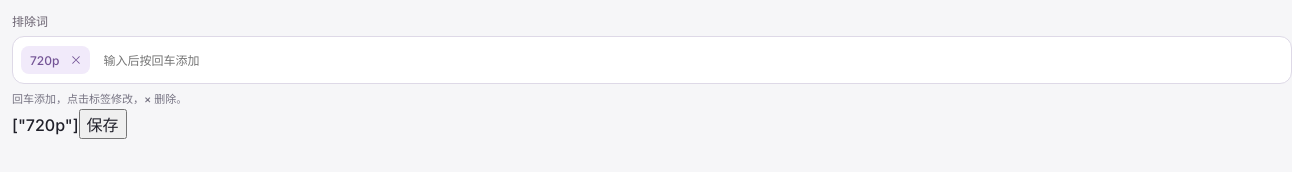
Scenario: KeywordTags › adds with Enter, edits on click, cancels with Escape and removes individually
The image size is (1292, 172).
In the field labelled "排除词": (690, 60) 96,45 -> 1283,75, type " 繁日 "
Then press Enter
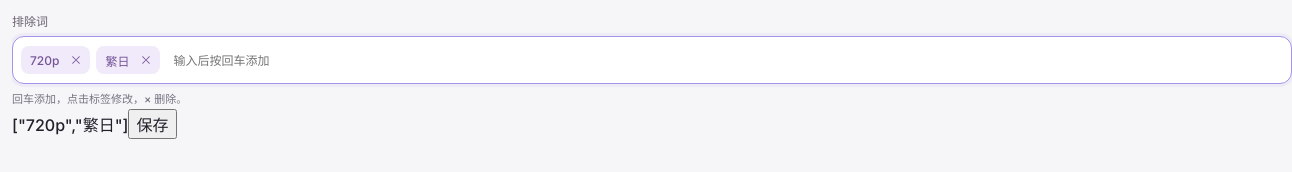
Now the text "[\"720p\",\"繁日\"]" is shown, box 12,115 -> 128,135
Click the button with aria-label "编辑排除词 繁日": (114, 60) 96,46 -> 132,74
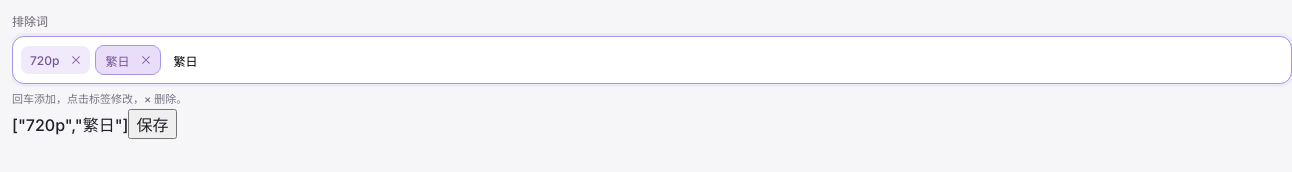
Replace the text in the field labelled "排除词" with "简日": (725, 60) 166,45 -> 1283,75
Then press Enter
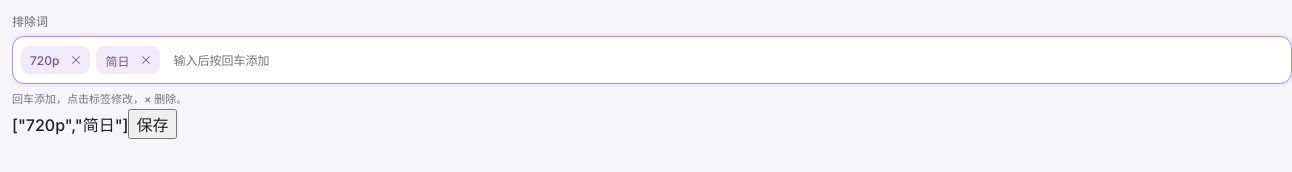
Now the text "[\"720p\",\"简日\"]" is shown, box 12,115 -> 128,135
Click the button with aria-label "编辑排除词 简日": (114, 60) 96,46 -> 132,74
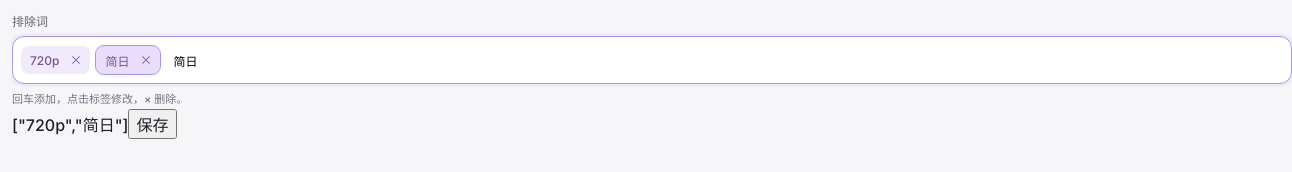
Replace the text in the field labelled "排除词" with "取消修改": (725, 60) 166,45 -> 1283,75
Then press Escape
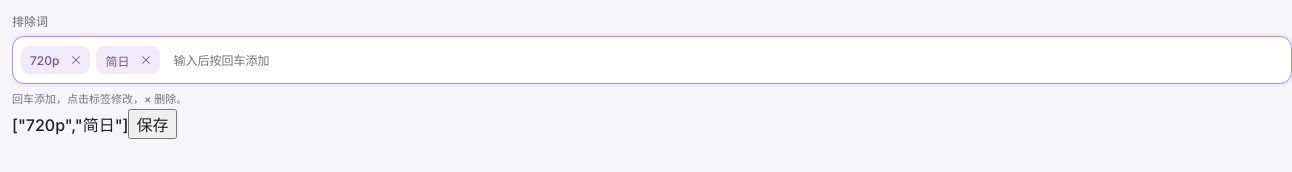
Now the text "[\"720p\",\"简日\"]" is shown, box 12,115 -> 128,135
Click the button named "删除排除词 简日": (146, 60) 132,46 -> 160,74
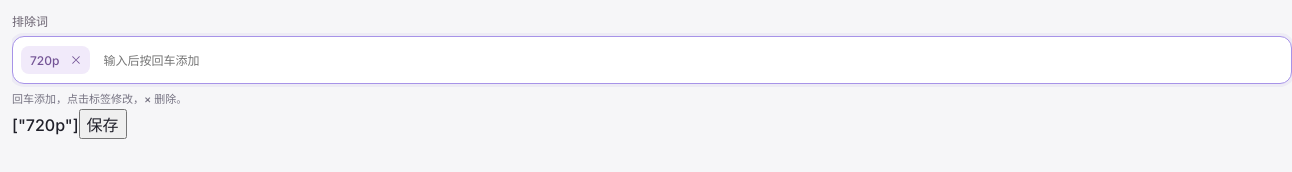
Now the text "[\"720p\"]" is shown, box 12,115 -> 79,135
